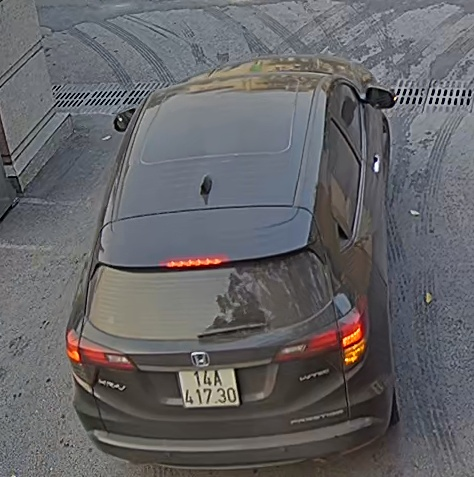vehicle plate: (177, 362, 244, 408)
